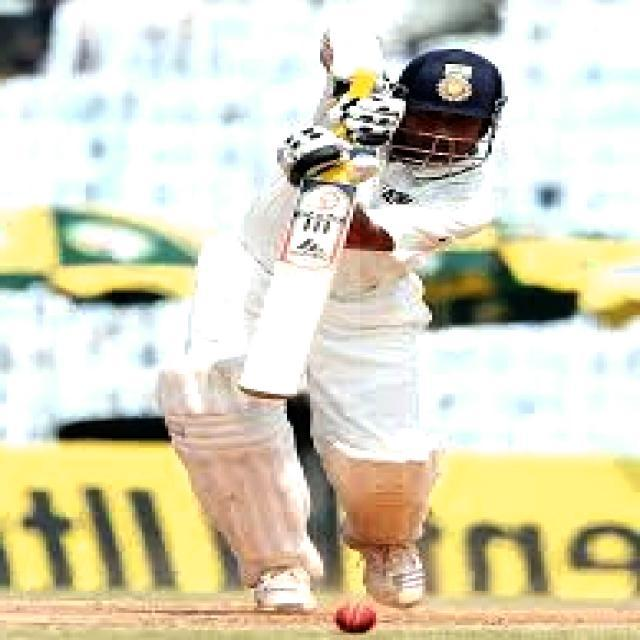bat: (234, 180, 360, 397)
toe: (235, 380, 298, 395)
